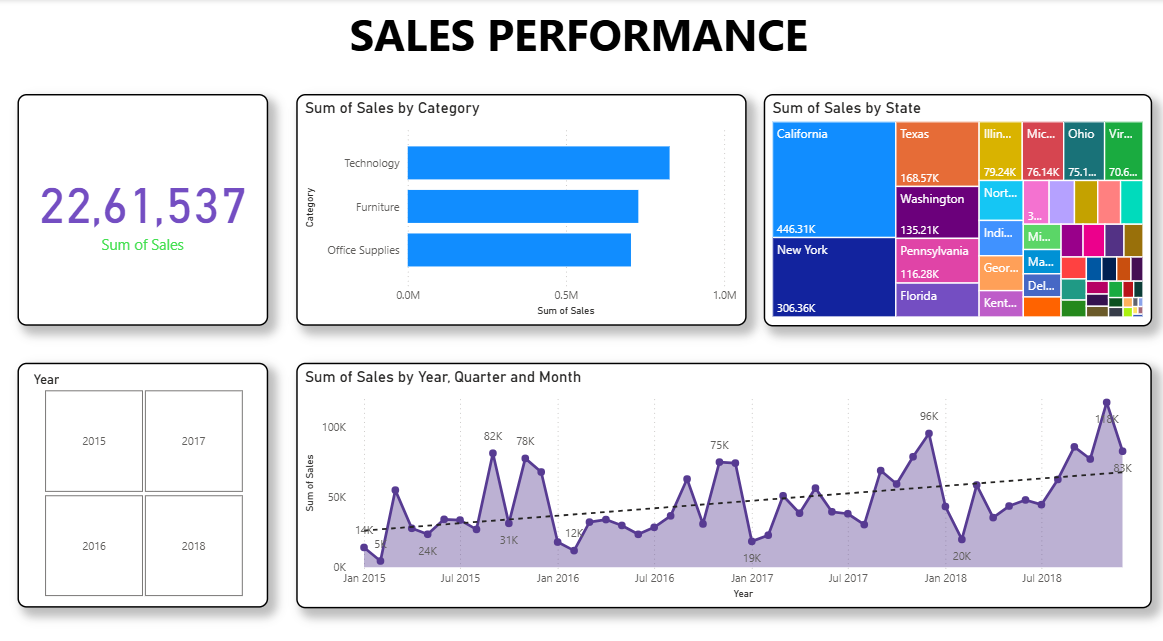

This screenshot's page, from the dashboard's own definition file:
{"tool":"powerbi","page":{"name":"SP","canvas":[1280,720],"ordinal":0},"visuals":[{"type":"textbox","box":[378.7,0,529.7,75.5],"z":0},{"type":"card","fields":{"Values":["Sum(SalesData.Sales)"]},"box":[19.8,104.7,275.6,254.7],"z":1000},{"type":"clusteredBarChart","fields":{"Category":["SalesData.Category"],"Y":["Sum(SalesData.Sales)"]},"box":[325.6,104.7,494.2,254.7],"z":2000},{"type":"treemap","fields":{"Group":["SalesData.Country","SalesData.Region","SalesData.State","SalesData.City"],"Values":["Sum(SalesData.Sales)"]},"box":[838.4,104.3,426.8,255.2],"z":3000},{"type":"slicer","fields":{"Values":["SalesData.Year"]},"box":[19.8,398.8,275.6,268.6],"z":4000},{"type":"areaChart","fields":{"Y":["Sum(SalesData.Sales)"],"Category":["SalesData.Order Date.Variation.Date Hierarchy.Year","SalesData.Order Date.Variation.Date Hierarchy.Quarter","SalesData.Order Date.Variation.Date Hierarchy.Month"]},"box":[325.6,398.8,939.5,269.8],"z":5001}]}

Visuals, with their boxes in screenshot pixels (x1, y1, x2, y2), scaled from the page's 1280x720 canvas onto the 1163x641 screenshot:
textbox: 344,0,825,67
card - Sum(SalesData.Sales): 18,93,268,320
clusteredBarChart - SalesData.Category x Sum(SalesData.Sales): 296,93,745,320
treemap - SalesData.Country x SalesData.Region: 762,93,1150,320
slicer - SalesData.Year: 18,355,268,594
areaChart - Sum(SalesData.Sales) x SalesData.Order Date.Variation.Date Hierarchy.Year: 296,355,1149,595
